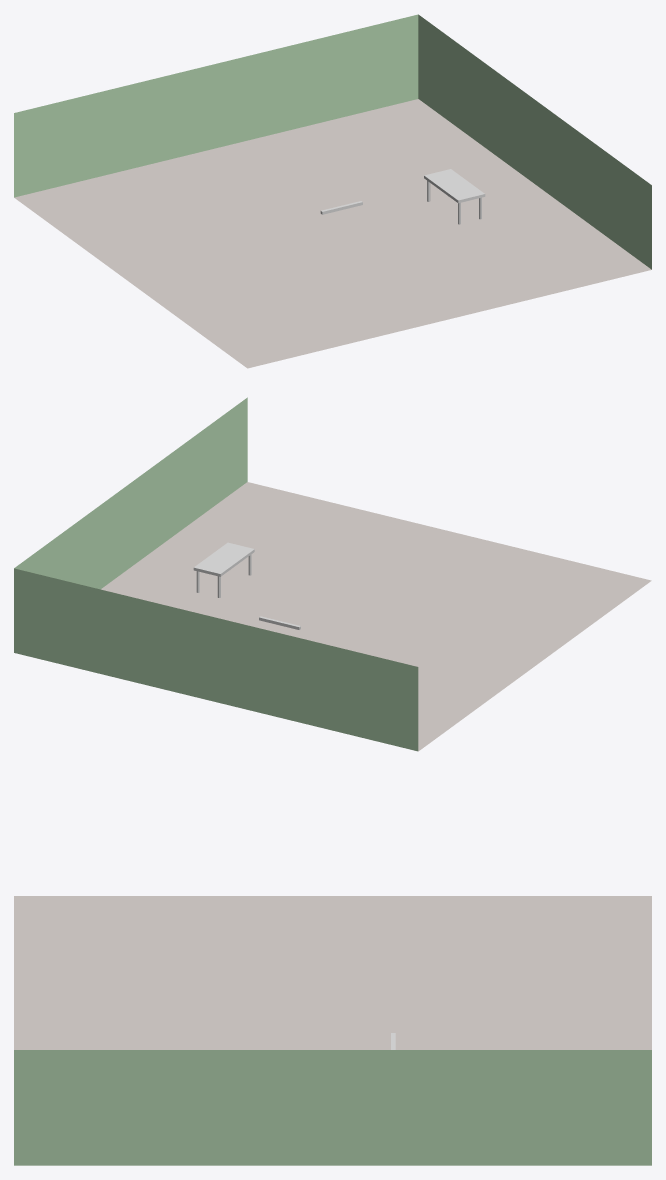
The model's file is space-1.glb.
The picture shows the model from 3 angles, top to bottom: view 1: azimuth 30°, elevation 25°; view 2: azimuth 150°, elevation 25°; view 3: azimuth 270°, elevation 25°; orthographic projection. The views are drawn at different scales.
Visible parts, largest first — view 1: 평면, Cube.001; view 2: 평면, Cube.001; view 3: 평면.
Boxes of the visible parts, x1=… form: 평면: x1=14, y1=14, x2=651, y2=368; Cube.001: x1=424, y1=169, x2=485, y2=224; 평면: x1=14, y1=397, x2=651, y2=751; Cube.001: x1=193, y1=542, x2=254, y2=597; 평면: x1=14, y1=896, x2=651, y2=1165.
Size of the model in its own units: 2000 by 399 by 2000.
